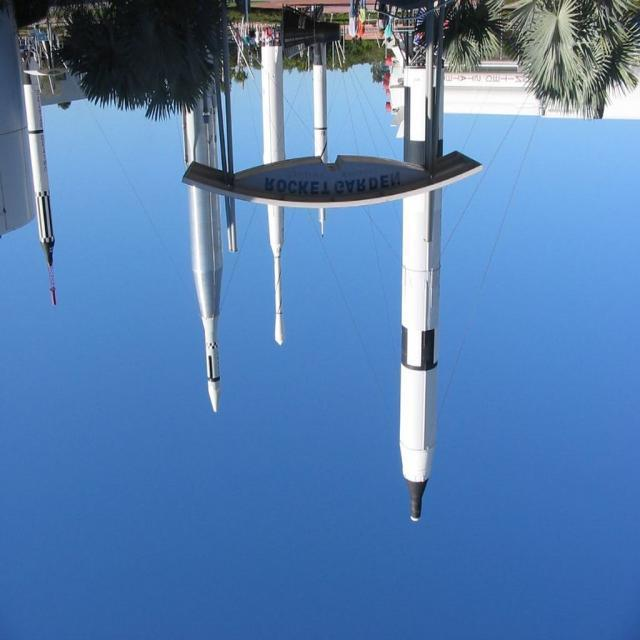missile: (392, 58, 444, 525), (174, 69, 231, 414), (19, 68, 74, 305)
